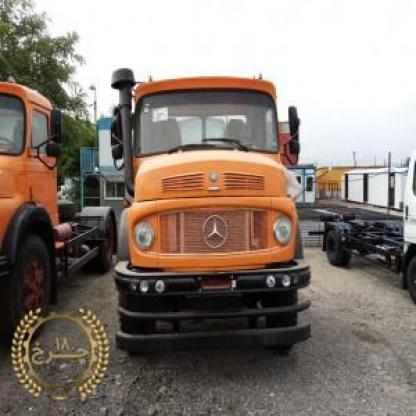Truck: (116, 82, 328, 358), (0, 73, 108, 351), (320, 158, 416, 305)
